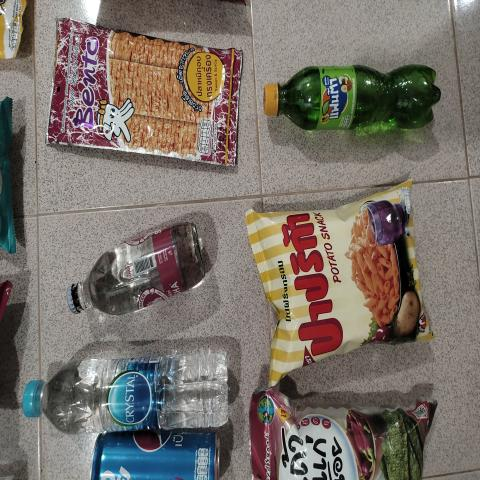bento_red: (55, 19, 244, 171)
crystal: (21, 348, 236, 428)
fanta_green: (258, 68, 446, 135)
paprika: (252, 207, 422, 354)
pepsi_blue: (84, 430, 232, 480)
singha_soda: (66, 220, 209, 302)
